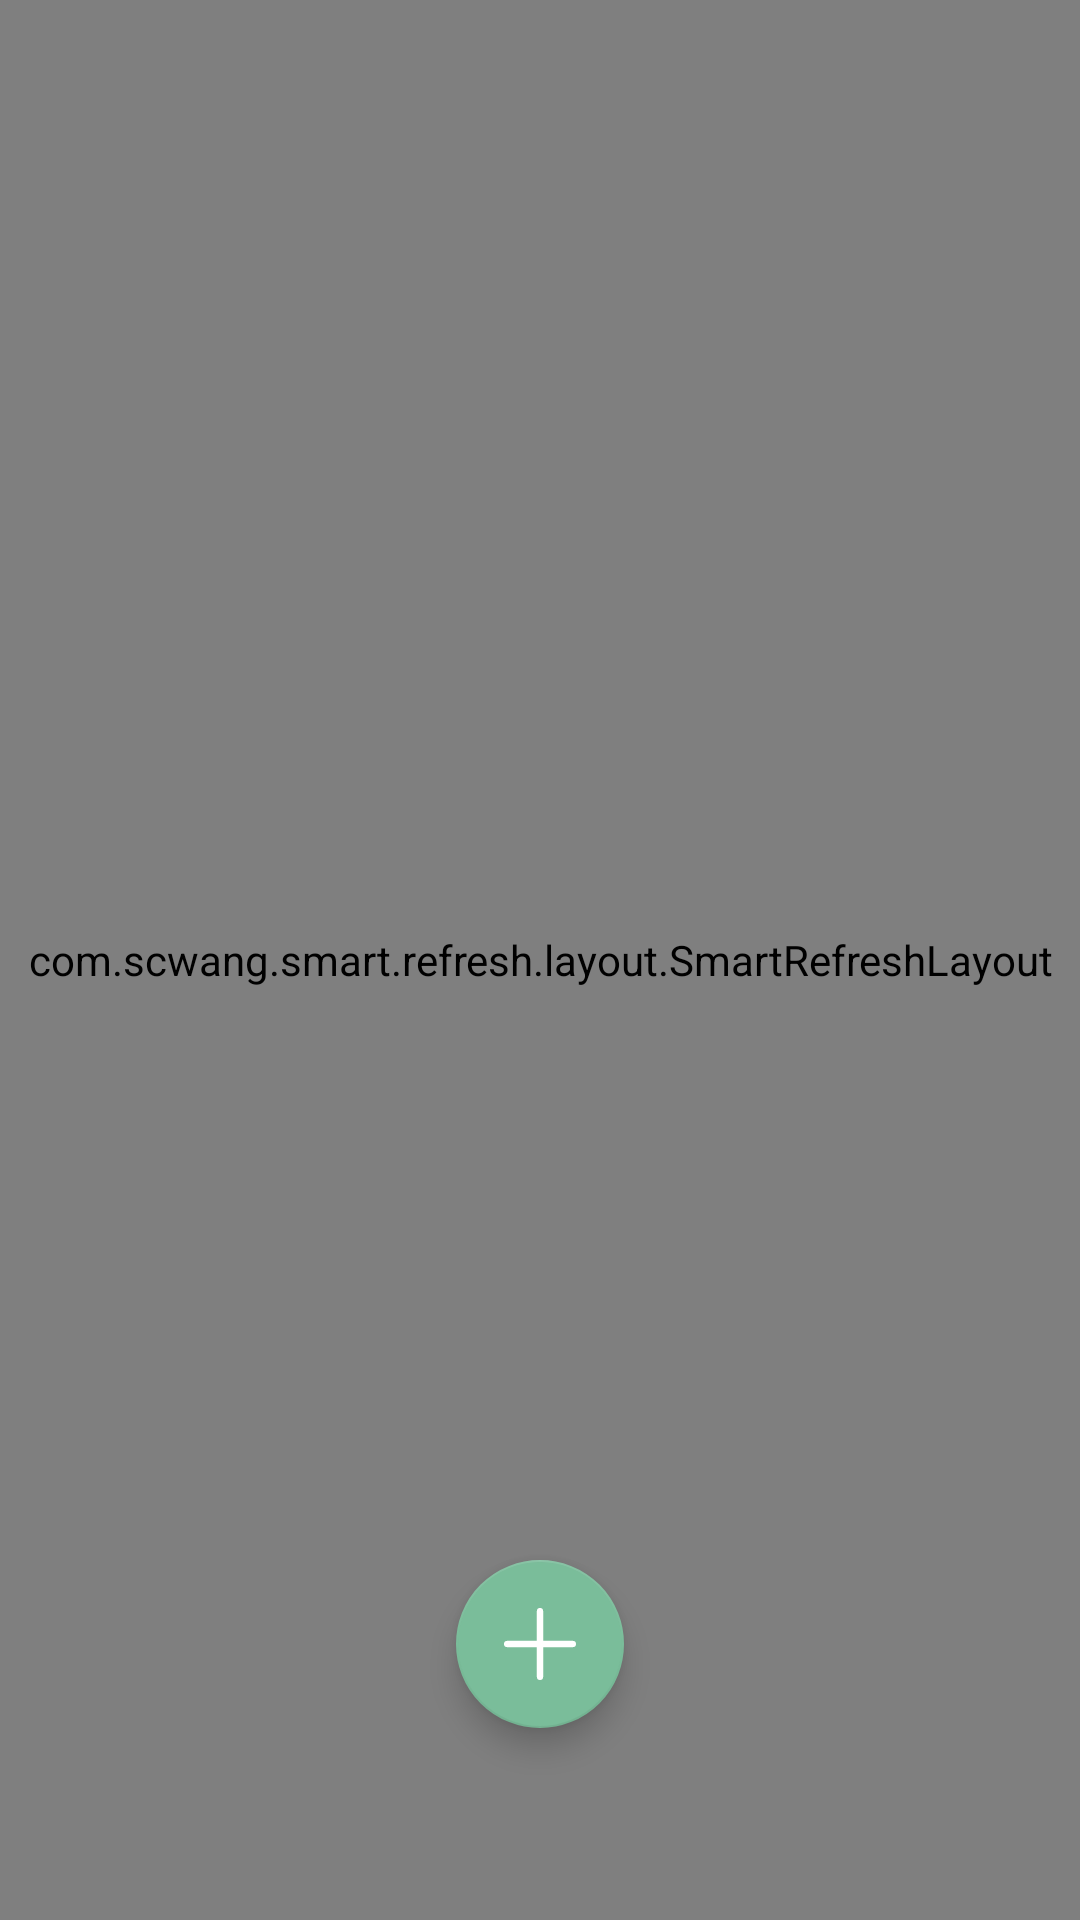

Named icons in this screenshot (1080×1920) and their bounding boxes, (x1=x1, y1=y1, x2=x2, y2=y2):
plus: (x1=456, y1=1560, x2=624, y2=1728)
